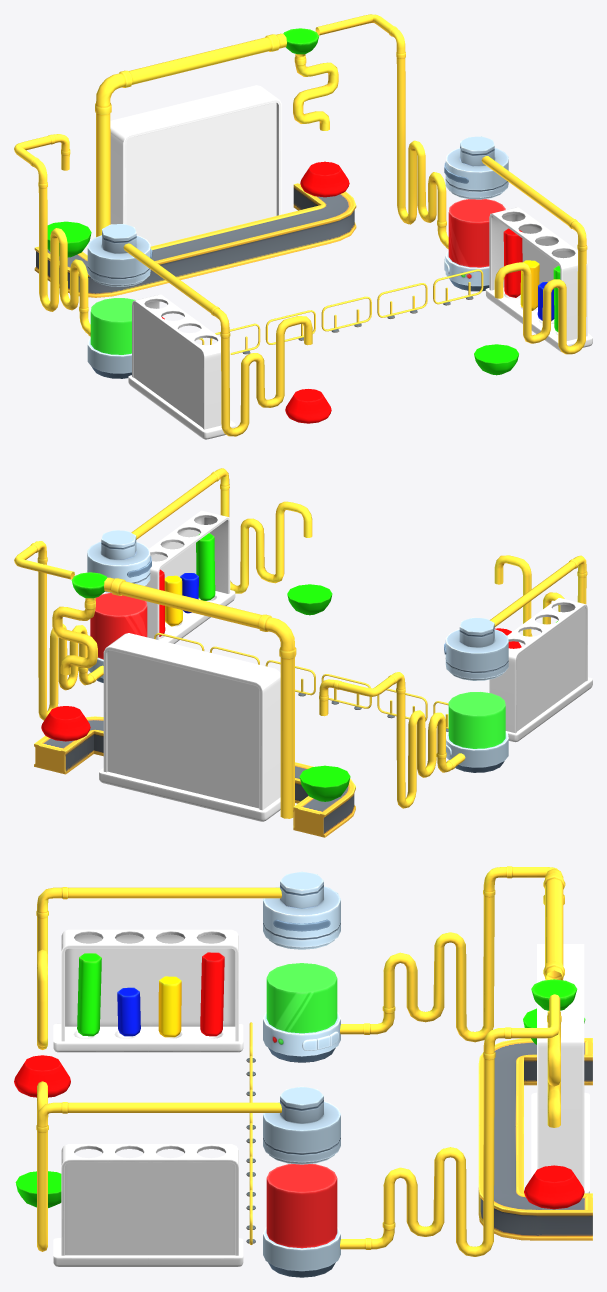
File: obj_wall.gltf
3 renders of one model, top to bottom at view 1: azimuth 30°, elevation 25°; view 2: azimuth 150°, elevation 25°; view 3: azimuth 270°, elevation 25°, orthographic. The views are drawn at different scales.
Visible parts, largest first — view 1: obj_wall; view 2: obj_wall; view 3: obj_wall.
Boxes of the visible parts, x1,y1,x2,y2 form: obj_wall: (14,14,592,439); obj_wall: (14,468,592,837); obj_wall: (14,866,592,1277).
Size of what is drawn, in the model's own units: 15.95 by 7.21 by 15.75.
10 materials, 10 textured.
